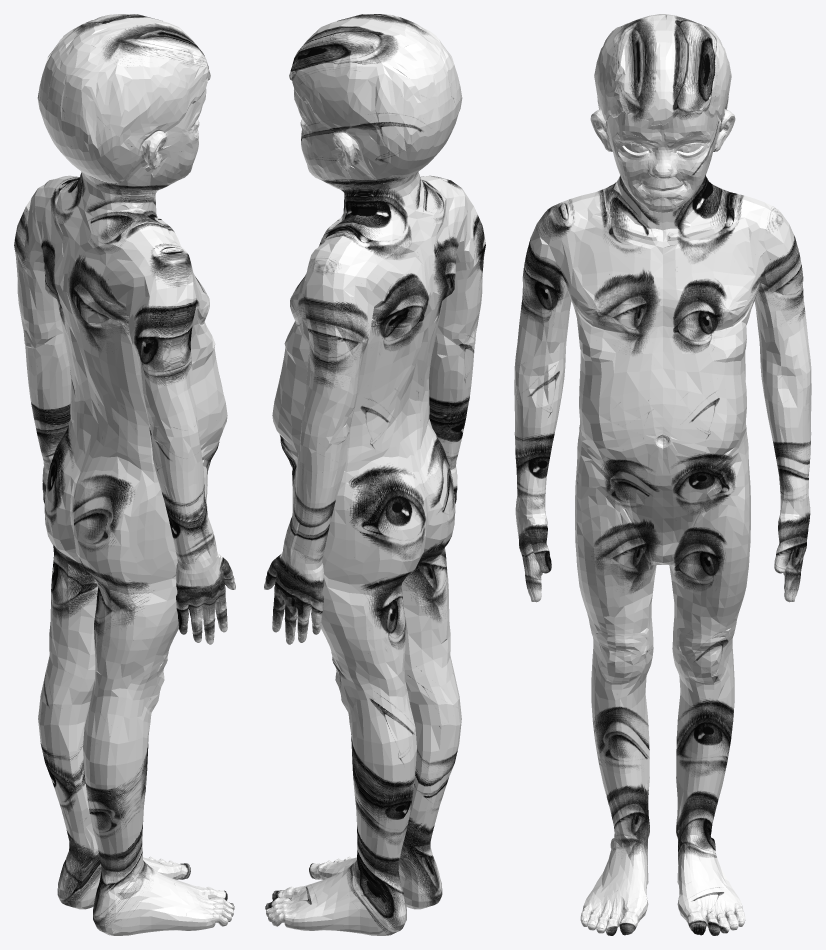
File: childanim.glb
3 views of the same model, side by side, from view 1: azimuth 30°, elevation 25°; view 2: azimuth 150°, elevation 25°; view 3: azimuth 270°, elevation 25° (orthographic).
Parts seen in each view (by area): view 1: child01; view 2: child01; view 3: child01.
Part boxes in pixels (x1,y1,x2,y2): child01: [14, 14, 235, 935]; child01: [264, 14, 485, 935]; child01: [514, 14, 811, 935].
Bounding box in the file's own units: 5.14 × 28.05 × 8.67.
1 material, 1 textured.
